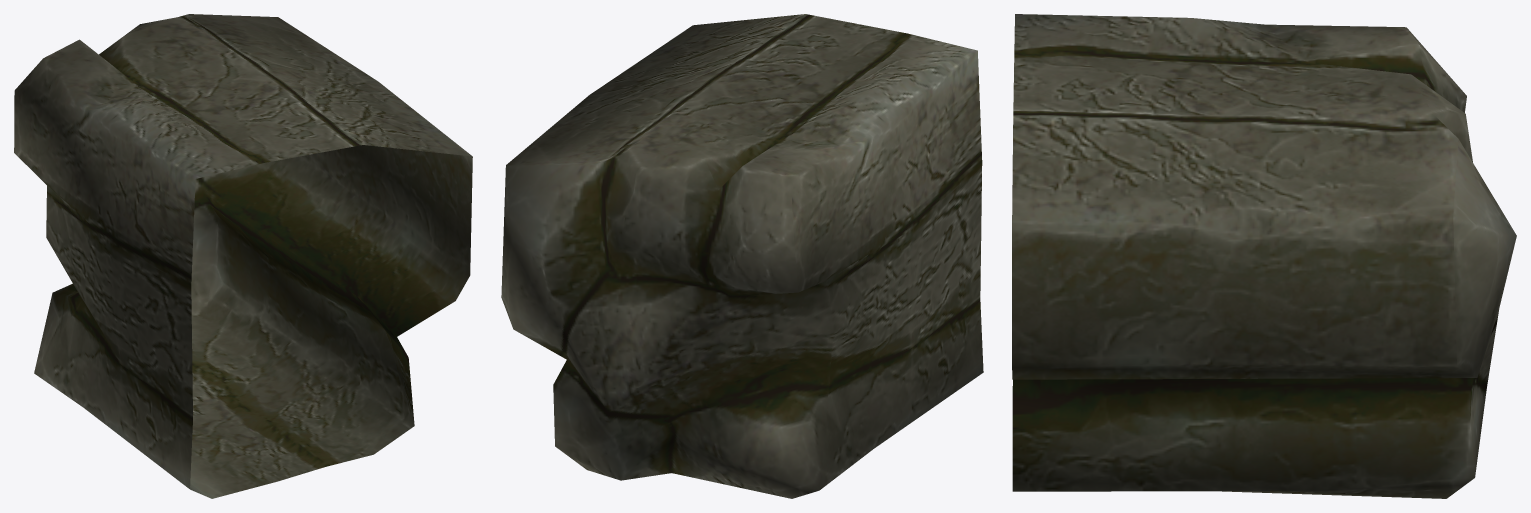
The model's file is TI_Rock_07_Part_06_a.fbx.
3 renders of one model, left to right at view 1: azimuth 30°, elevation 25°; view 2: azimuth 150°, elevation 25°; view 3: azimuth 270°, elevation 25°, orthographic. The views are drawn at different scales.
Parts seen in each view (by area): view 1: TI_Rock_07_Part_06_a; view 2: TI_Rock_07_Part_06_a; view 3: TI_Rock_07_Part_06_a.
Part boxes in pixels (box(x1,y1,x2,y2)): TI_Rock_07_Part_06_a: box(14, 14, 472, 498); TI_Rock_07_Part_06_a: box(501, 14, 983, 498); TI_Rock_07_Part_06_a: box(1012, 14, 1516, 498).
Size of the model in its own units: 1.21 by 1.34 by 1.55.
